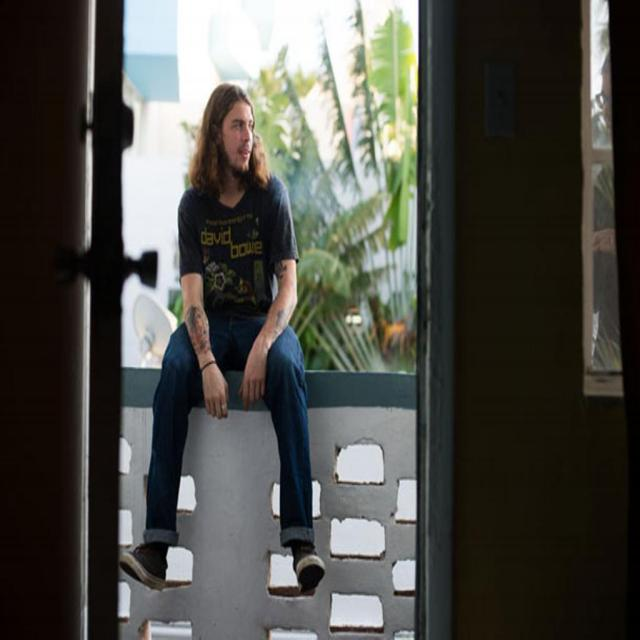nomask: (224, 94, 256, 169)
